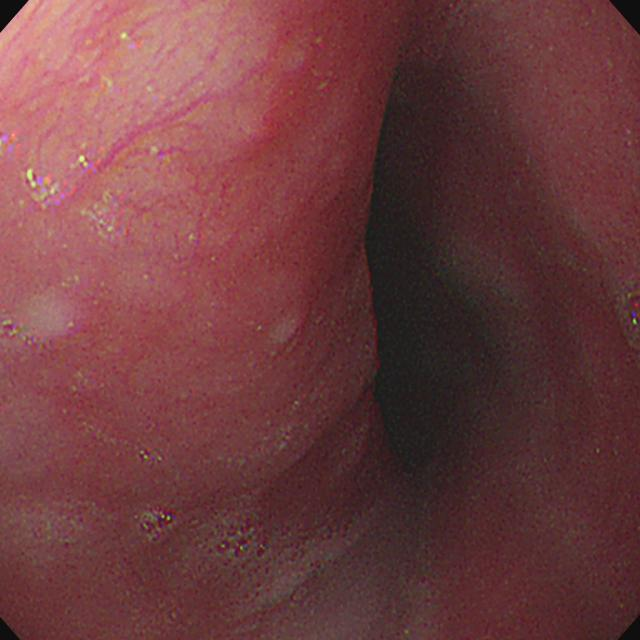T: (202, 512, 274, 564), (136, 508, 176, 542)
